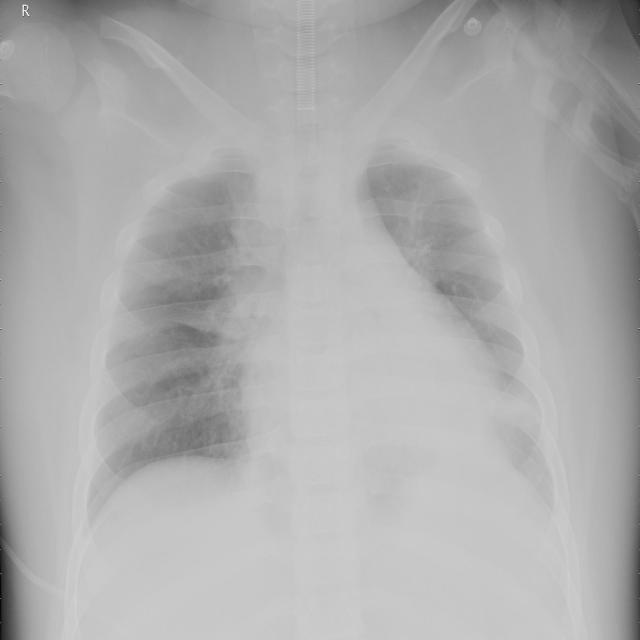low-pneumonia: (382, 160, 516, 297), (81, 313, 180, 453), (173, 279, 257, 426), (135, 193, 205, 306)
